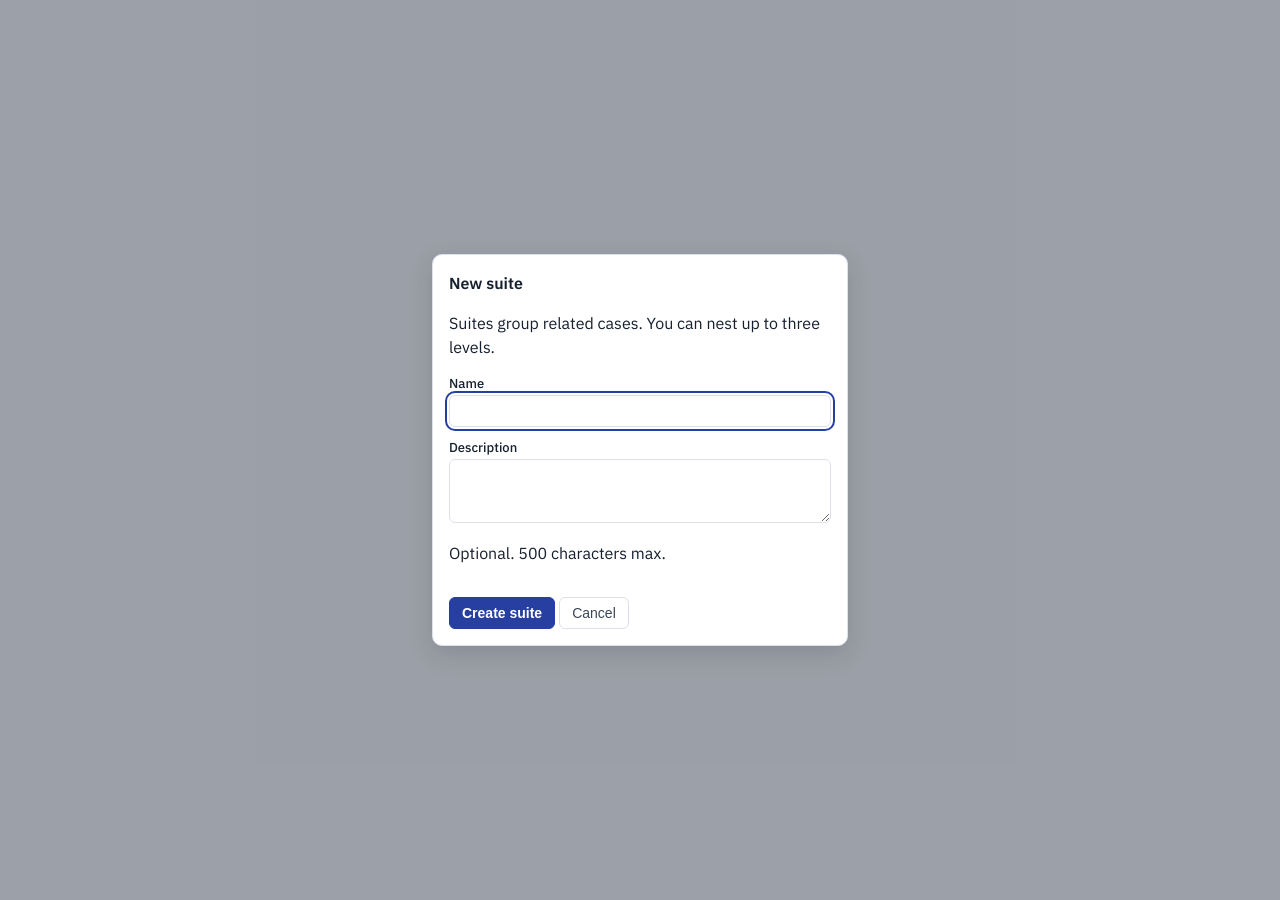
Test case: SuiteFormDialog › requires a name before submitting
The width and height of the screenshot is (1280, 900).
Click the button "Create suite": (502, 613) [449,597,555,629]
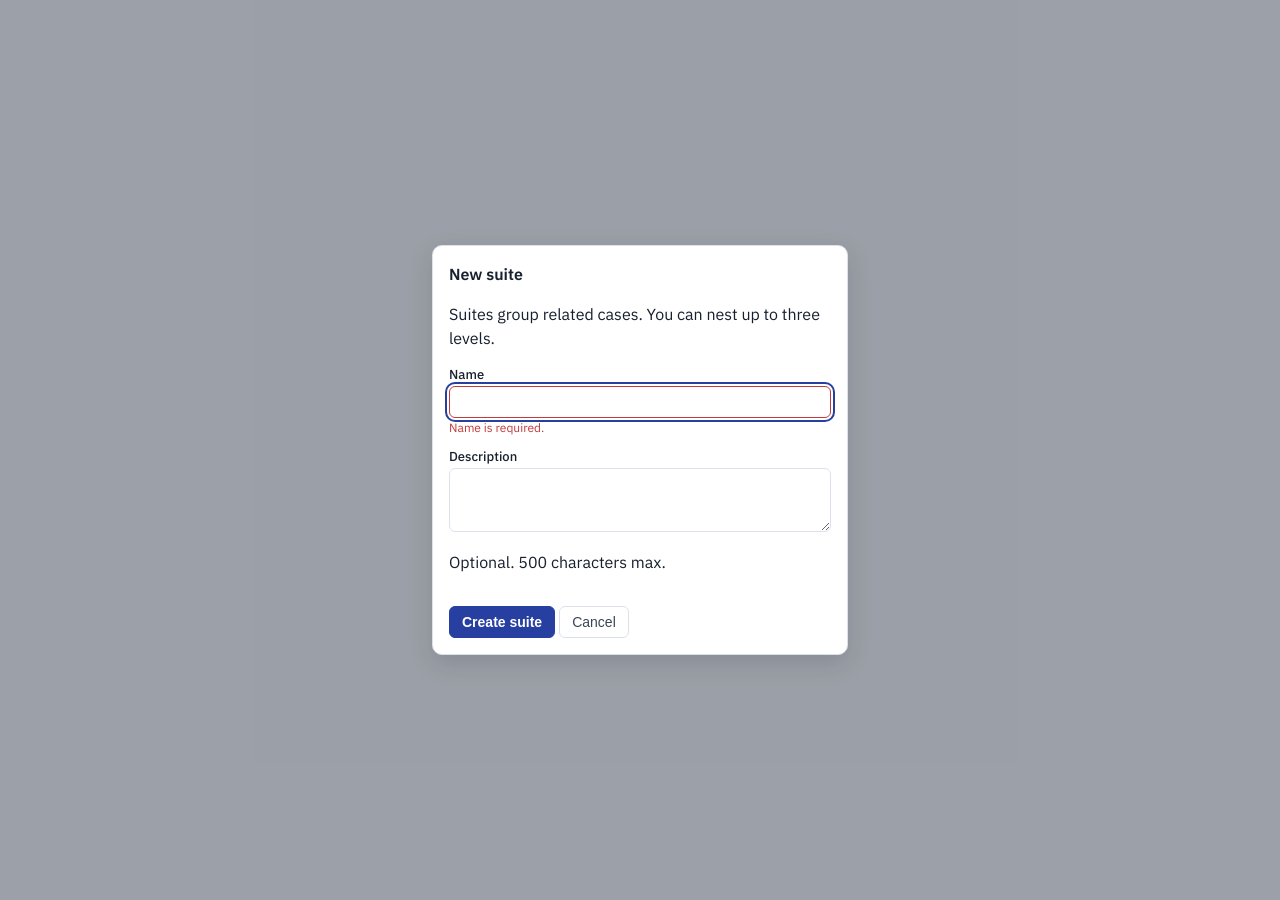
Expected: the text "Name is required." is shown, [449,420,544,435]
